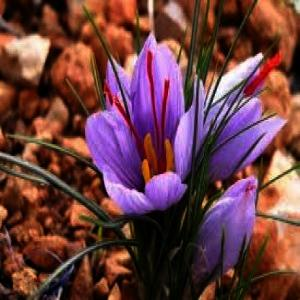Saffron: (87, 36, 205, 212), (176, 53, 288, 204), (184, 176, 258, 298)
